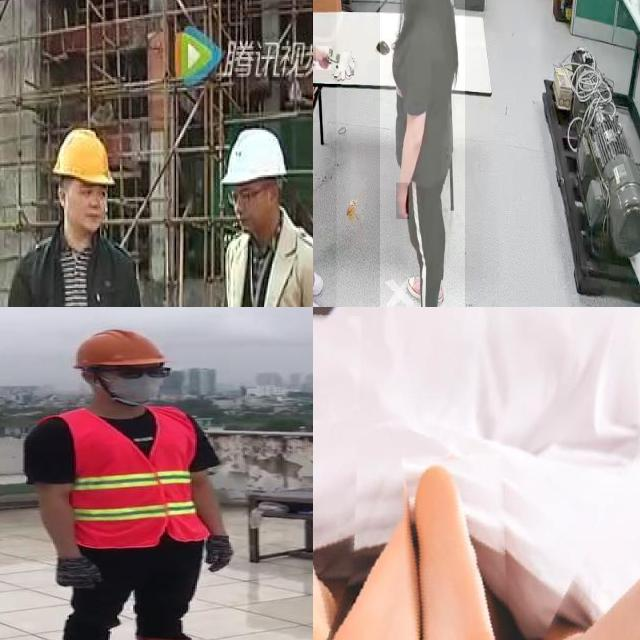Barefoots: (343, 440, 572, 640), (493, 351, 640, 640), (313, 422, 476, 640), (313, 307, 419, 640)
No_Ear-Protection: (262, 175, 286, 212), (56, 181, 72, 217)
hand_noglove: (396, 183, 409, 220), (316, 46, 332, 70)
head_helmet: (70, 326, 168, 368)
person: (12, 322, 240, 640), (380, 0, 465, 307)
shoes: (404, 271, 448, 306)
vest: (55, 409, 212, 551)
